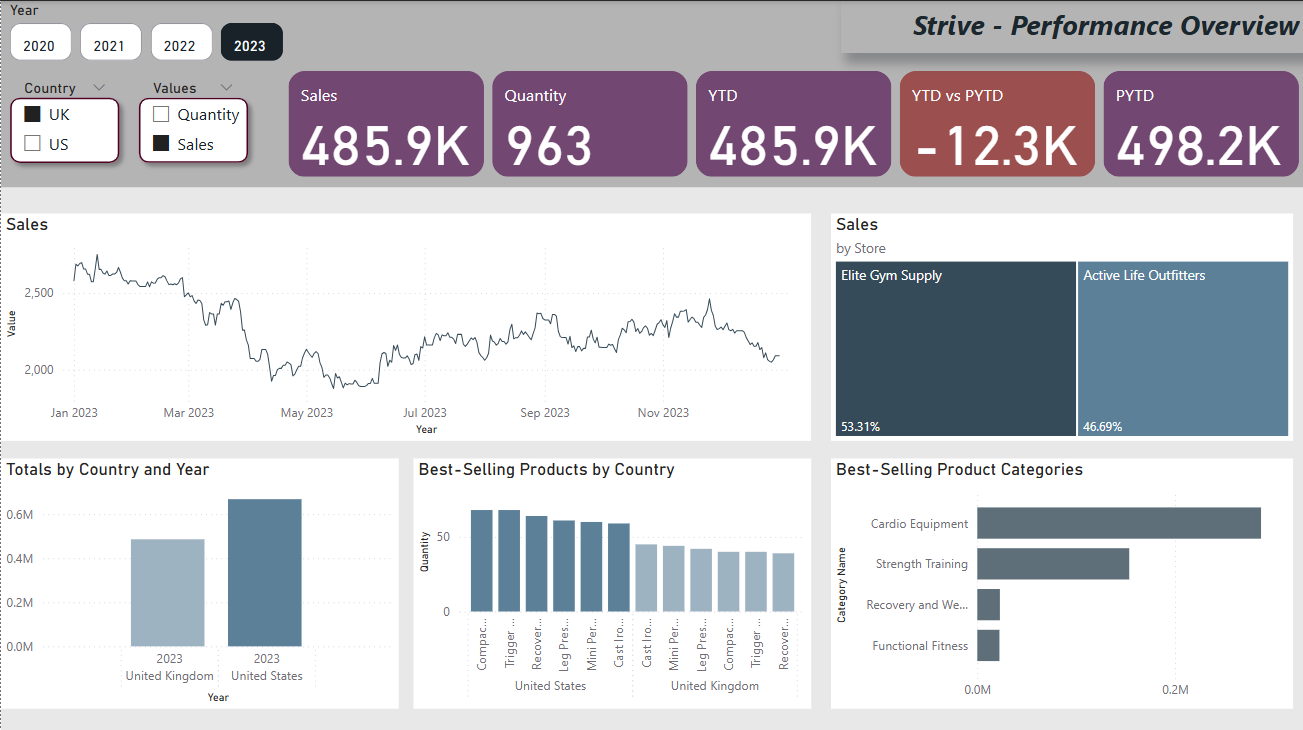

This screenshot's page, from the dashboard's own definition file:
{"tool":"powerbi","page":{"name":"Page 1","canvas":[1280,720],"ordinal":0},"visuals":[{"type":"shape","box":[0,0,1279.8,182.8],"z":0},{"type":"shape","box":[0,85.6,125.2,82.1],"z":1000,"group":"g2"},{"type":"advancedSlicerVisual","fields":{"Values":["dim_dates.Year"]},"box":[8.6,0,274.8,63.8],"z":2000},{"type":"shape","box":[126.4,85.6,125.2,82],"z":2000,"group":"g1"},{"type":"treemap","fields":{"Group":["dim_stores.store_name"],"Values":["All Measures.Switch Totals"]},"box":[814.7,208.6,454,223],"z":3000},{"type":"slicer","fields":{"Values":["Slicer1.Values"]},"box":[136.8,72.4,104.3,95.7],"z":4000,"group":"g1"},{"type":"clusteredColumnChart","title":"Totals by Country and Year","fields":{"Category":["dim_stores.country_name","dim_dates.Year"],"Y":["All Measures.Switch Totals"]},"box":[0,449.1,390,245.4],"z":4000},{"type":"lineStackedColumnComboChart","title":"Best-Selling Products by Country","fields":{"Category":["dim_stores.country_name","dim_products.product_name"],"Y":["Divide(All Measures.Total Products Sold, ScopedEval(All Measures.Total Products Sold, []))"]},"box":[405.1,449.1,390,245.4],"z":5000},{"type":"barChart","title":"Best-Selling Product Categories","fields":{"Category":["dim_products.category_name","dim_products.subcategory_name","dim_products.product_name"],"Y":["All Measures.Switch Totals"]},"box":[814.7,449.1,454,245.4],"z":6000},{"type":"lineChart","fields":{"Y":["All Measures.Switch Moving Average"],"Category":["dim_dates.Year-Month"]},"box":[0,208.6,795.1,223.3],"z":7000},{"type":"cardVisual","fields":{"Data":["All Measures.Switch Total Sales","All Measures.Switch Quantity","All Measures.Switch_YTD","All Measures.Switch YTD vs PYTD","All Measures.Switch_PYTD"]},"box":[277.3,63.8,1002.5,114.1],"z":8000},{"type":"slicer","fields":{"Values":["Slicer2.Country"]},"box":[9.5,72.4,105.5,85.9],"z":9000,"group":"g2"},{"type":"group","id":"g1","title":"Group 1","box":[126.4,72.4,125.2,95.7],"z":9000},{"type":"group","id":"g2","title":"Group 2","box":[0,72.4,126.4,95.7],"z":10000},{"type":"textbox","box":[824.5,0,455.2,51.5],"z":11000}]}

Visuals, with their boxes in screenshot pixels (x1, y1, x2, y2), scaled from the page's 1280x720 canvas onto the 1303x730 screenshot:
shape: 0:0:1302:185
shape: 0:87:127:170
advancedSlicerVisual - dim_dates.Year: 9:0:288:65
shape: 129:87:256:170
treemap - dim_stores.store_name x All Measures.Switch Totals: 829:211:1291:438
slicer - Slicer1.Values: 139:73:245:170
"Totals by Country and Year" clusteredColumnChart: 0:455:397:704
"Best-Selling Products by Country" lineStackedColumnComboChart: 412:455:809:704
"Best-Selling Product Categories" barChart: 829:455:1291:704
lineChart - All Measures.Switch Moving Average x dim_dates.Year-Month: 0:211:809:438
cardVisual - All Measures.Switch Total Sales x All Measures.Switch Quantity: 282:65:1302:180
slicer - Slicer2.Country: 10:73:117:160
"Group 1" group: 129:73:256:170
"Group 2" group: 0:73:129:170
textbox: 839:0:1302:52
